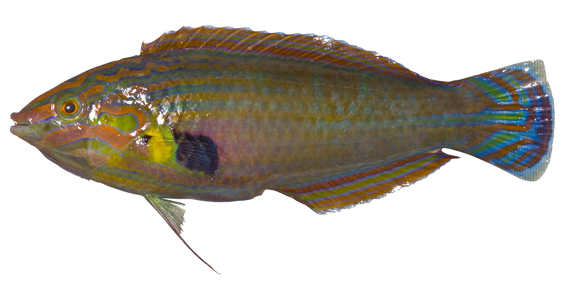fish: (10, 24, 556, 275)
